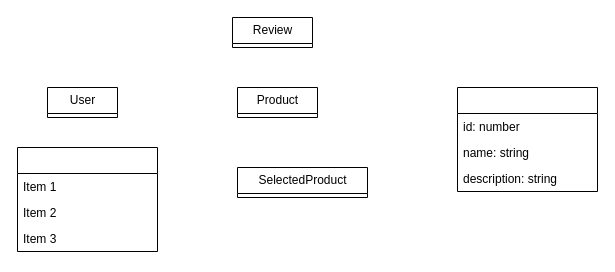
This 615x272 diagram has some shape labels left out. The box of each missing label's shape, as (x1, y1, x2, y2) in pixels:
Category: (456, 86, 598, 192)
ShoppingCard: (16, 146, 158, 252)
